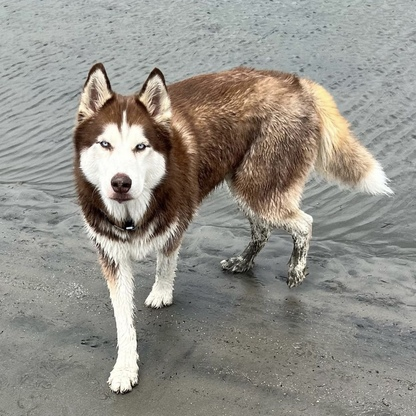husky: (67, 61, 398, 397)
